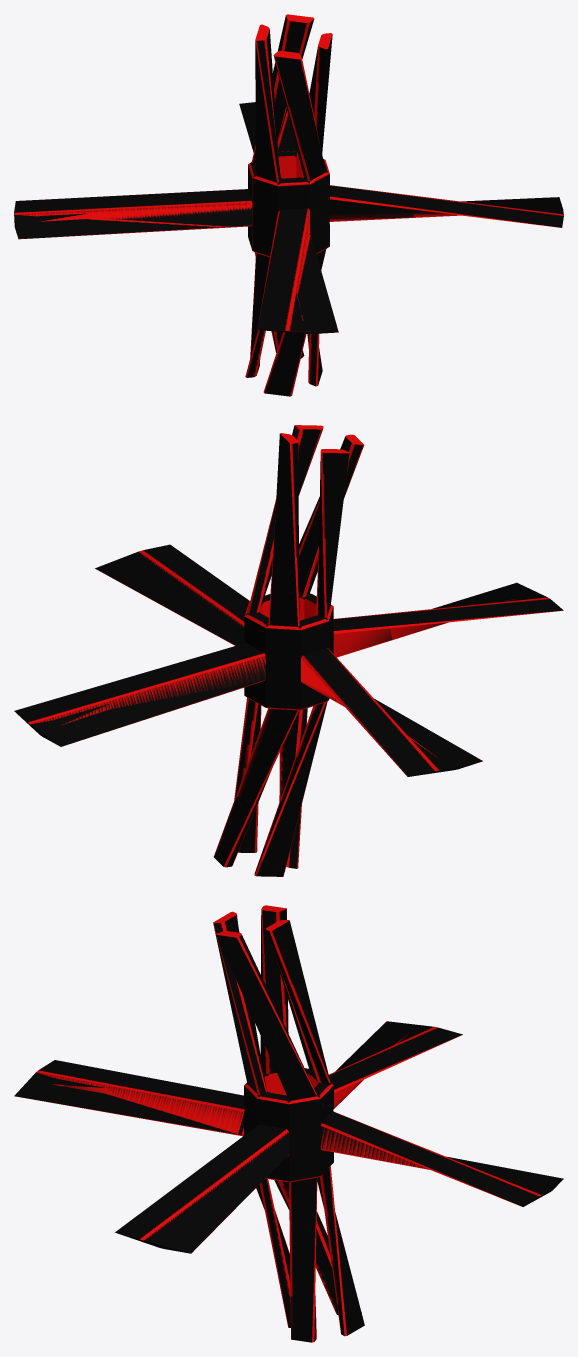
The model's file is turbine.fbx.
3 renders of one model, top to bottom at view 1: azimuth 30°, elevation 25°; view 2: azimuth 150°, elevation 25°; view 3: azimuth 270°, elevation 25°, orthographic. The views are drawn at different scales.
Parts seen in each view (by area): view 1: turbine_Cylinder; view 2: turbine_Cylinder; view 3: turbine_Cylinder.
Boxes of the visible parts, x1,y1,x2,y2 form: turbine_Cylinder: (14,14,563,396); turbine_Cylinder: (14,425,563,876); turbine_Cylinder: (14,905,563,1342).
Bounding box in the file's own units: 12.25 × 9.97 × 12.25.
1 material, 1 textured.
